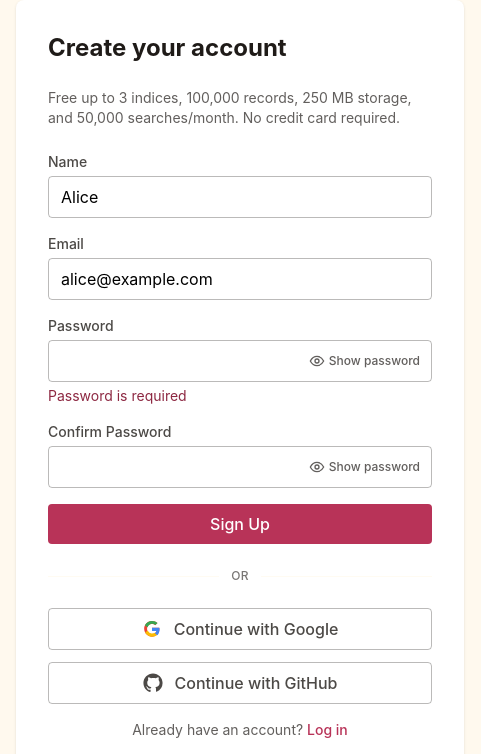
Test: Signup page › shows stale server password error until input starts, then clears only when password reaches valid length
This screenshot has width=481, height=754.
Check: the text "Password is required" is shown, box [48,387,187,404]
Type "short" into the password field labelled "Password" at (240,361), box [48,340,432,382]
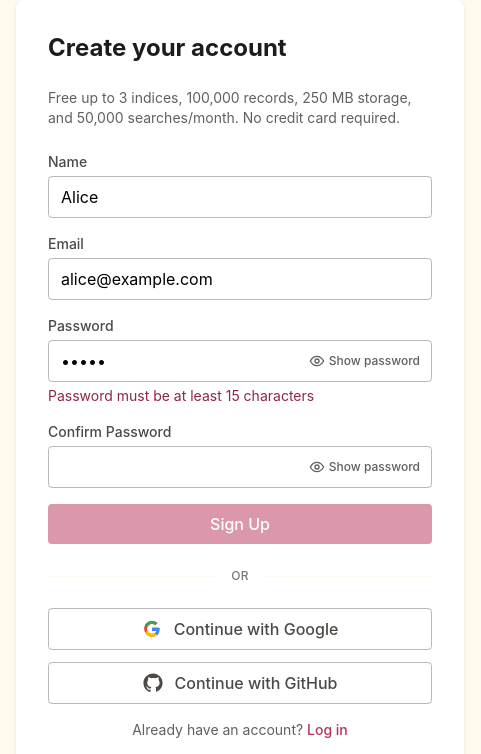
Check: the text "Password must be at least 15 characters" is shown, box [48,387,314,404]
Check: the text "Password is required" is gone
Type "abc café 123456" into the password field labelled "Password" at (240,361), box [48,340,432,382]
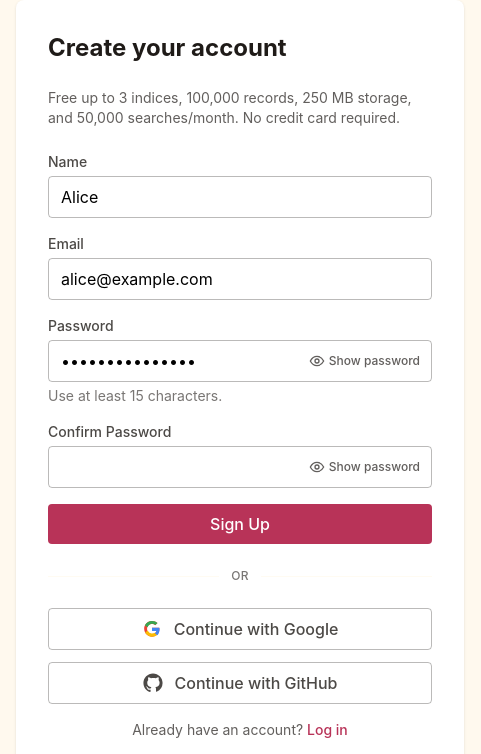
Check: the text "Password must be at least 15 characters" is gone
